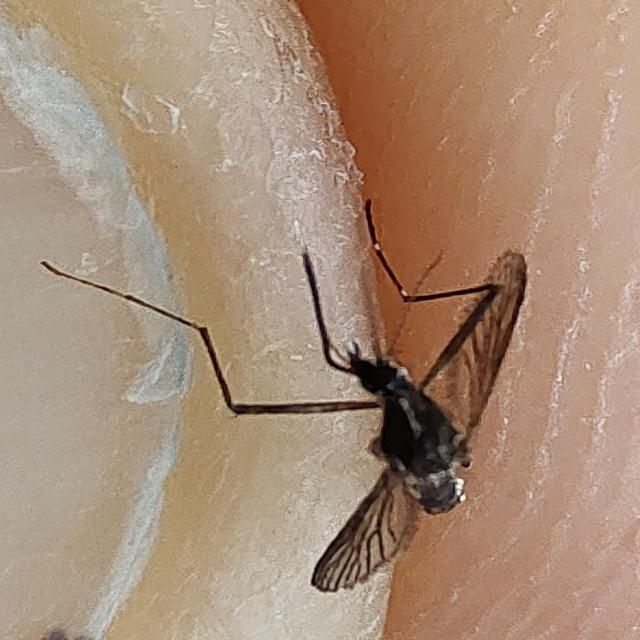albopictus: (190, 167, 538, 591)
